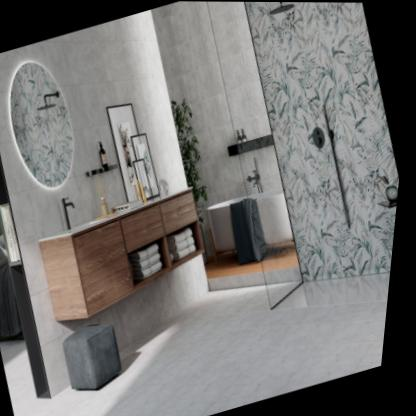Ceramic floor: (74, 299, 394, 416)
